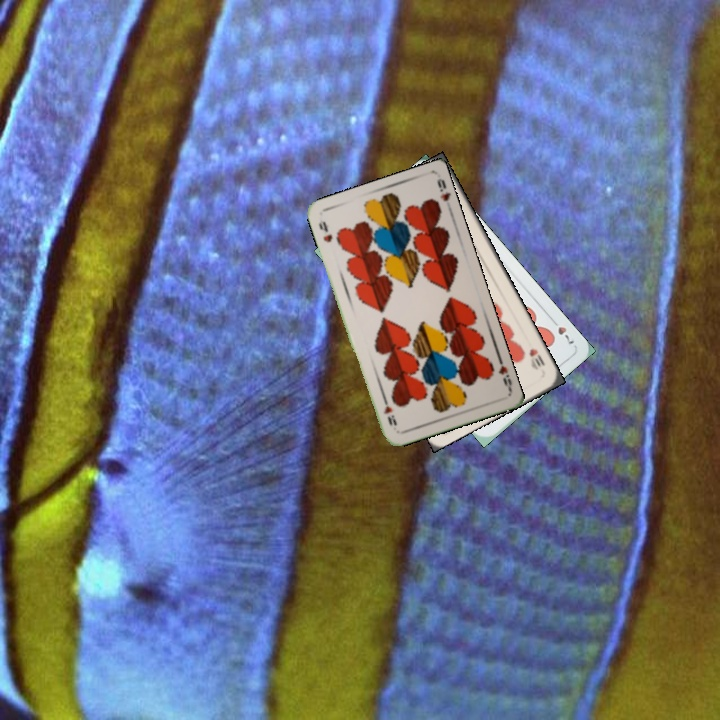H10: (525, 344, 548, 373)
H7: (547, 314, 577, 348)
H9: (494, 353, 514, 393), (314, 217, 335, 245)
